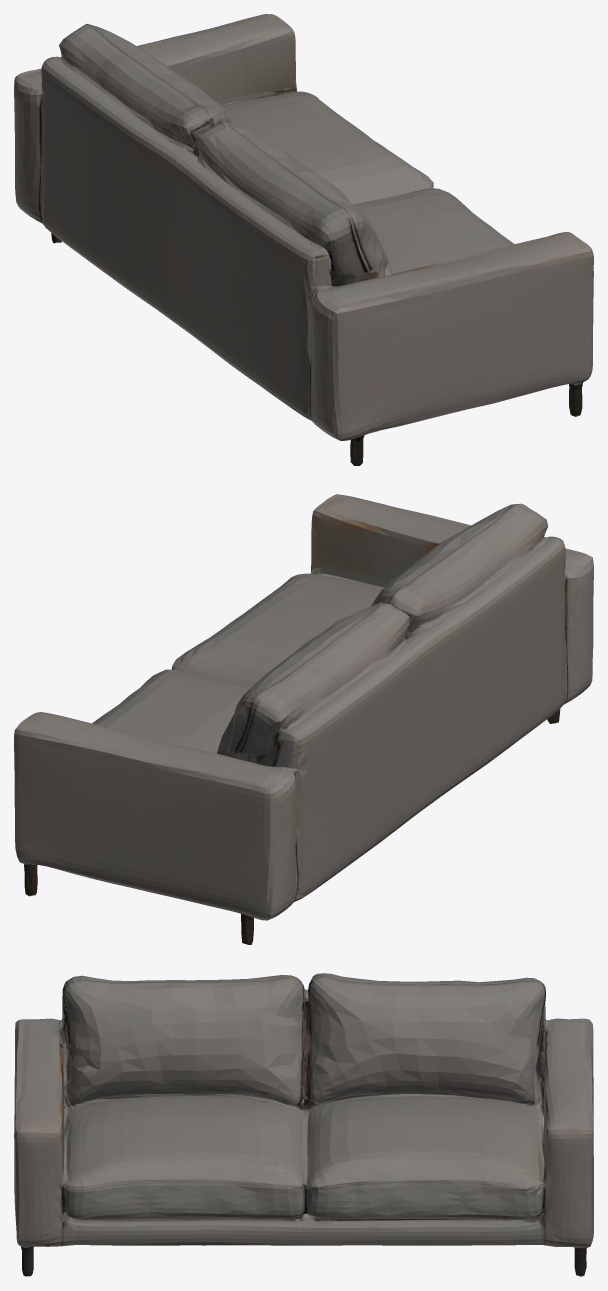
The model's file is sofa2.glb.
3 renders of one model, top to bottom at view 1: azimuth 30°, elevation 25°; view 2: azimuth 150°, elevation 25°; view 3: azimuth 270°, elevation 25°, orthographic. The views are drawn at different scales.
Parts seen in each view (by area): view 1: tripo_node_d6ba6862-6681-47ad-9c80-aa55fcd4685e; view 2: tripo_node_d6ba6862-6681-47ad-9c80-aa55fcd4685e; view 3: tripo_node_d6ba6862-6681-47ad-9c80-aa55fcd4685e.
Boxes of the visible parts, bbox=[...] form: tripo_node_d6ba6862-6681-47ad-9c80-aa55fcd4685e: bbox=[14, 14, 593, 465]; tripo_node_d6ba6862-6681-47ad-9c80-aa55fcd4685e: bbox=[14, 494, 593, 944]; tripo_node_d6ba6862-6681-47ad-9c80-aa55fcd4685e: bbox=[14, 973, 593, 1276].
Size of the model in its own units: 0.4831 by 0.4 by 0.9997.
1 material, 1 textured.
